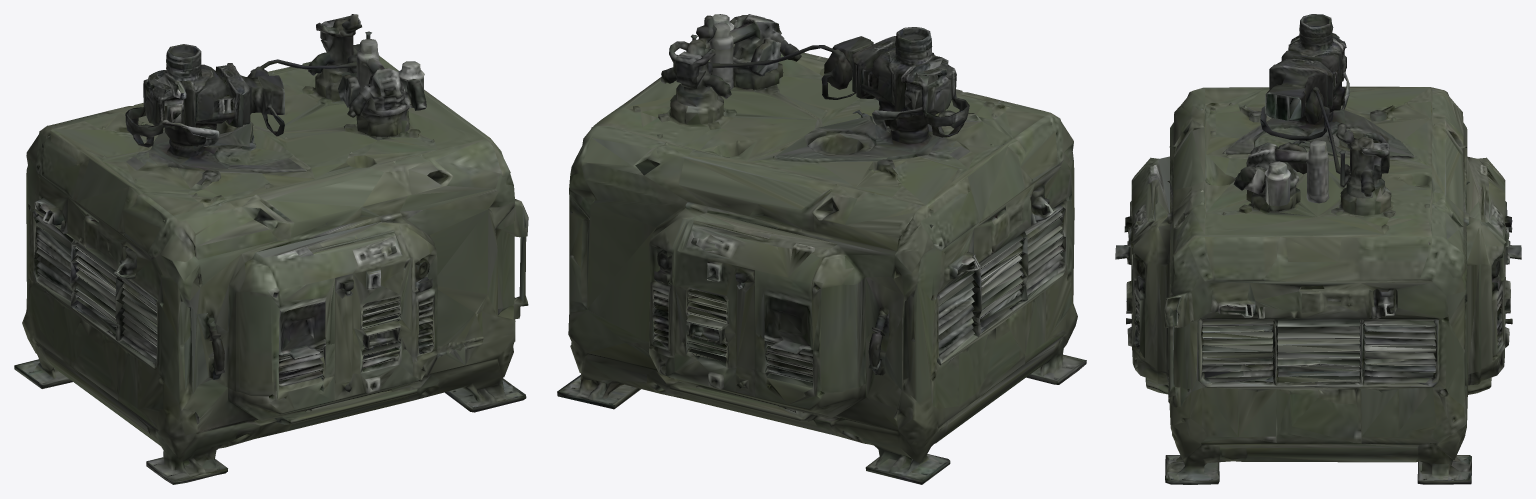
File: t243_factory_lod0m.glb
The picture shows the model from 3 angles, left to right: view 1: azimuth 30°, elevation 25°; view 2: azimuth 150°, elevation 25°; view 3: azimuth 270°, elevation 25°; orthographic projection. The views are drawn at different scales.
Size of the model in its own units: 18 by 16.1 by 17.41.
Materials: 1 (1 with a texture image).
